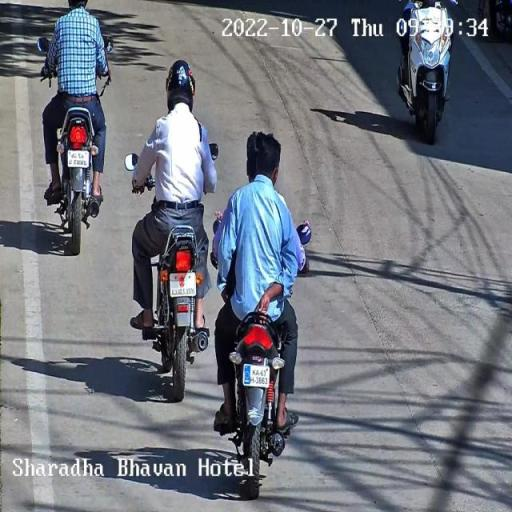tripple riding: (214, 122, 314, 328)
